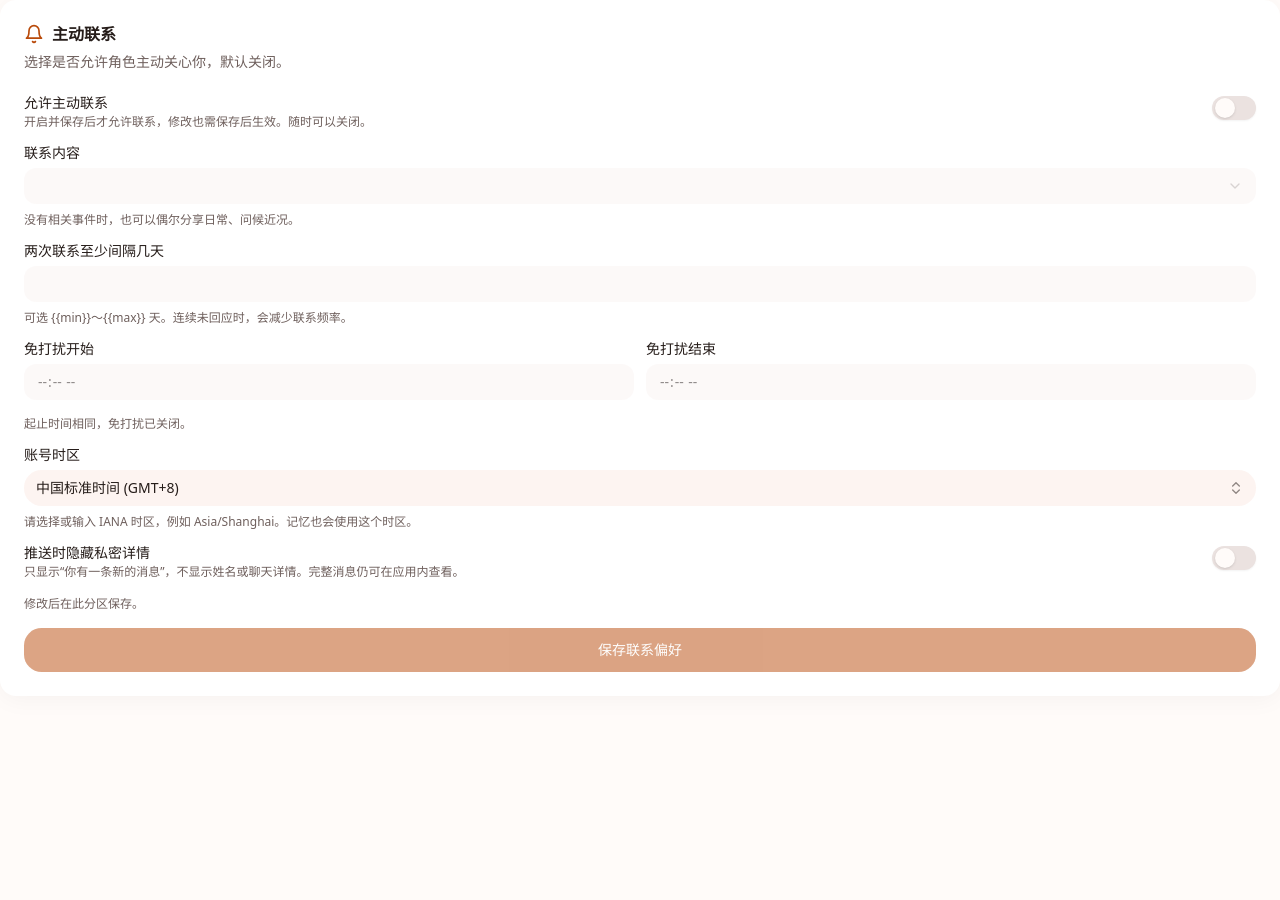
Test: updates the cache and clears dirty state only after success
Click the switch in the row of "开启并保存后才允许联系，修改也需保存后生效。随时可以关闭。" at (1234,108), box [1212,96,1256,120]
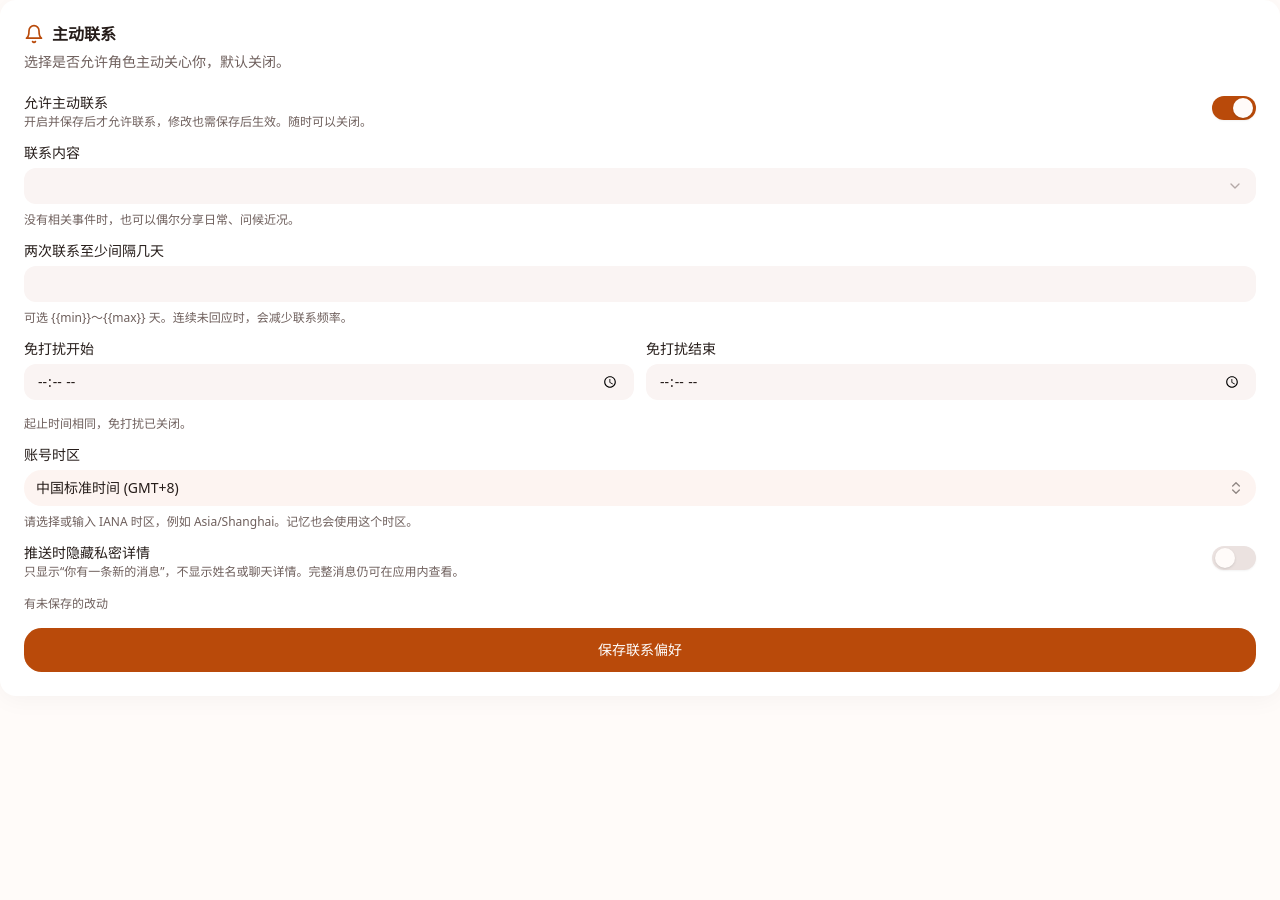
Submit the form
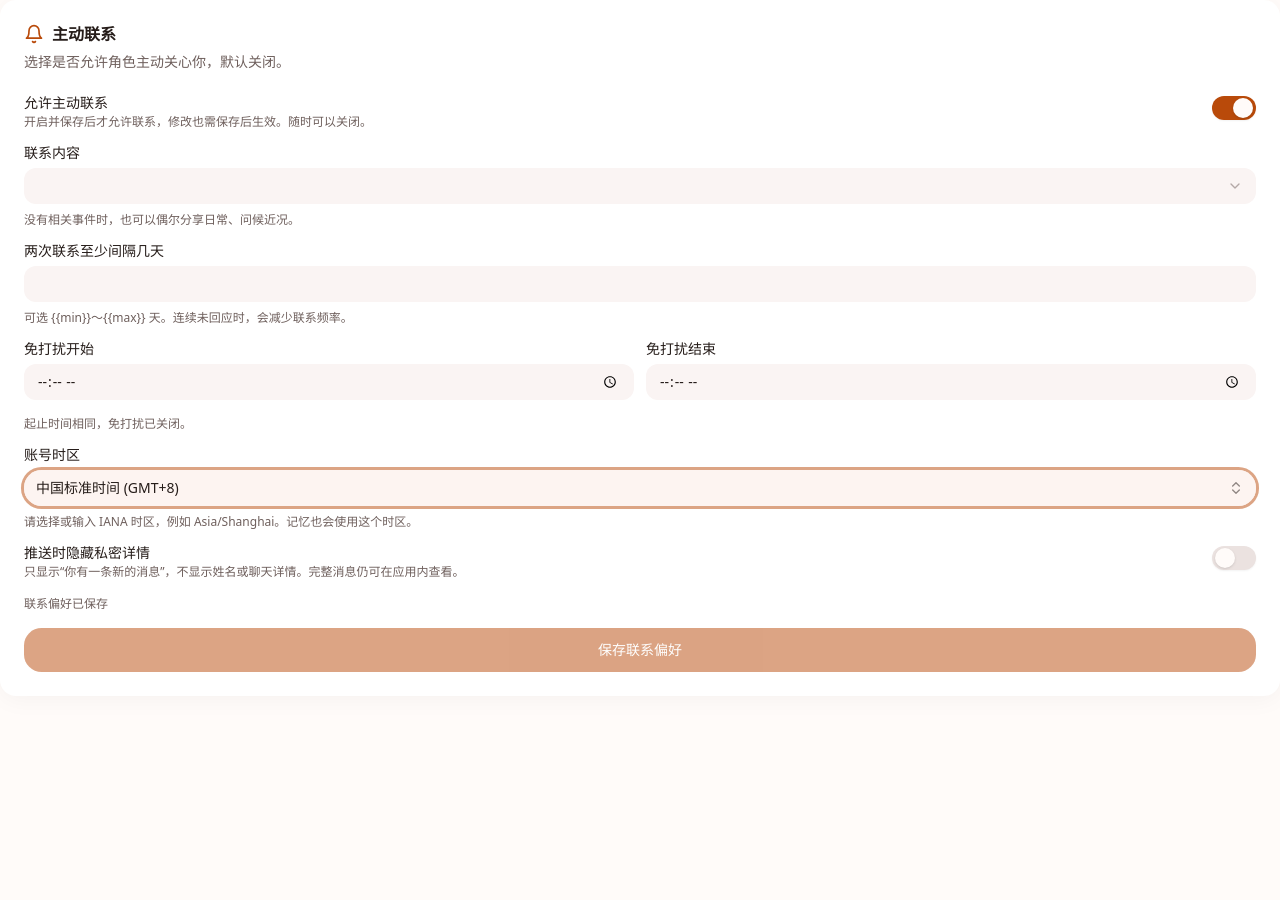
Expected: the button "保存联系偏好" is disabled, [24,628,1256,672]
